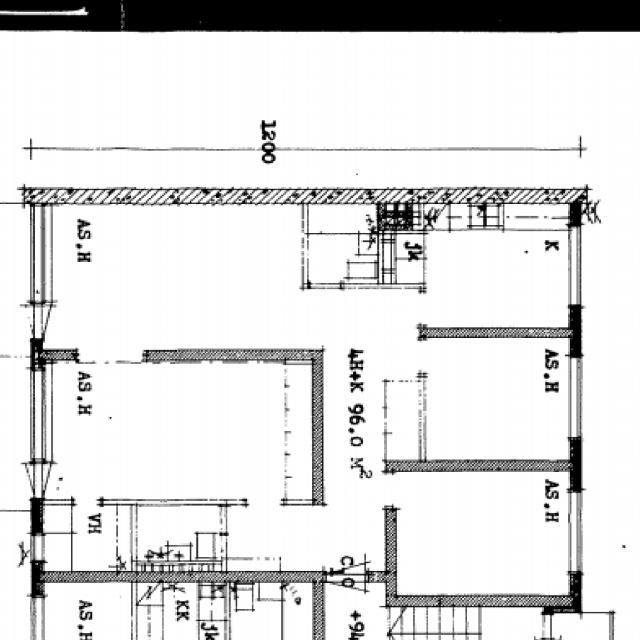door: (327, 536, 366, 583), (327, 573, 366, 620), (31, 462, 81, 498), (0, 462, 43, 498), (31, 306, 78, 338), (0, 306, 43, 338)
